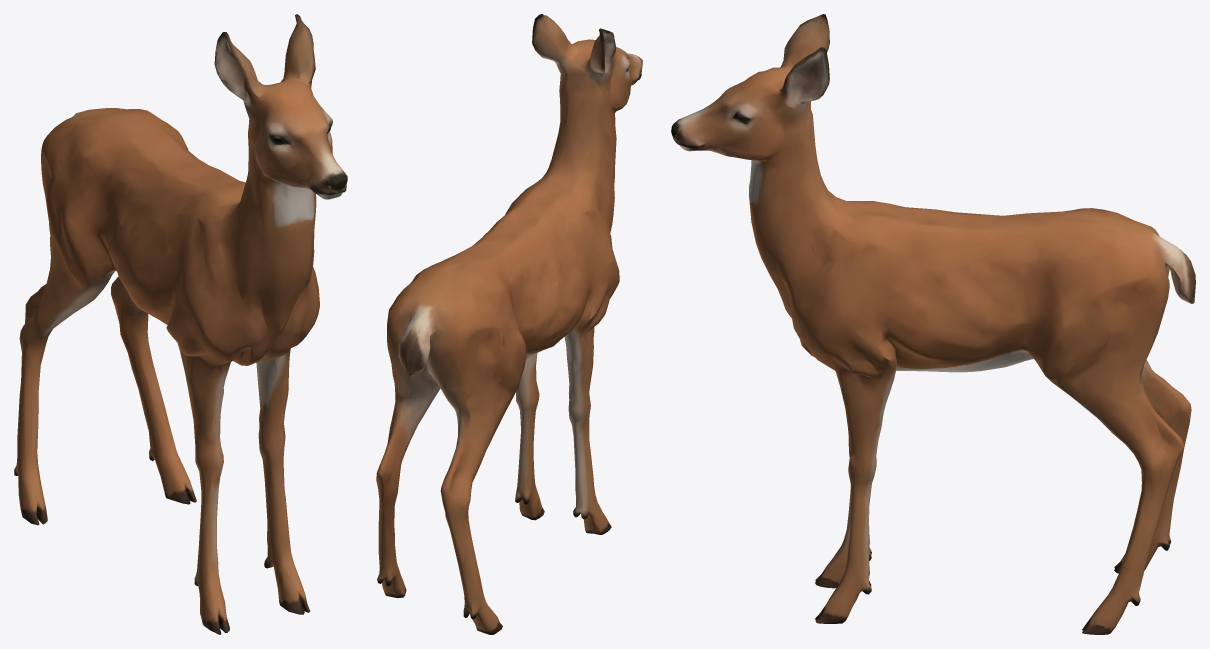
File: deer_roe_idle.glb
The picture shows the model from 3 angles, left to right: view 1: azimuth 30°, elevation 25°; view 2: azimuth 150°, elevation 25°; view 3: azimuth 270°, elevation 25°; orthographic projection. The views are drawn at different scales.
Parts seen in each view (by area): view 1: tripo_node_af76ca7b-effd-4daf-a4d0-8ec2de22597a; view 2: tripo_node_af76ca7b-effd-4daf-a4d0-8ec2de22597a; view 3: tripo_node_af76ca7b-effd-4daf-a4d0-8ec2de22597a.
Boxes of the visible parts, x1,y1,x2,y2 form: tripo_node_af76ca7b-effd-4daf-a4d0-8ec2de22597a: (14,14,347,634); tripo_node_af76ca7b-effd-4daf-a4d0-8ec2de22597a: (376,14,642,634); tripo_node_af76ca7b-effd-4daf-a4d0-8ec2de22597a: (671,14,1195,634).
Bounding box in the file's own units: 0.3666 × 1.4 × 1.16.
1 material, 1 textured.
